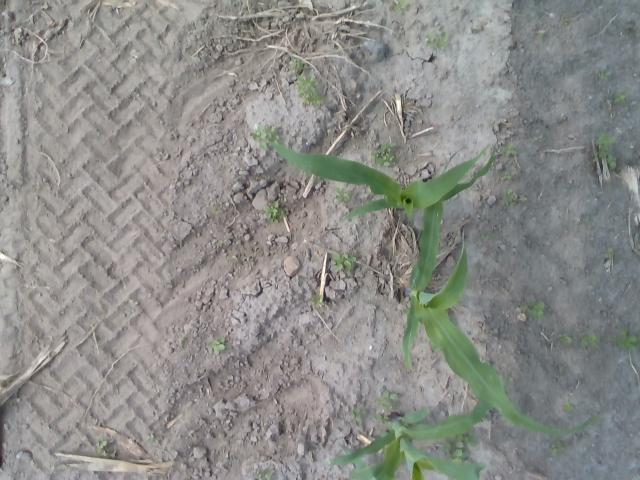Maize: (402, 198, 603, 436), (268, 141, 496, 220), (330, 402, 490, 480)
Weeds: (369, 139, 398, 168), (250, 124, 276, 145), (332, 254, 356, 271), (617, 330, 637, 350), (443, 442, 464, 461), (294, 74, 314, 93), (349, 406, 366, 427), (267, 202, 284, 222), (208, 338, 225, 356), (378, 391, 398, 406), (430, 31, 447, 46), (254, 468, 274, 480), (334, 187, 351, 201), (596, 133, 614, 146), (612, 90, 626, 104), (532, 300, 544, 316), (309, 94, 325, 105), (503, 142, 516, 154), (156, 148, 169, 160), (394, 1, 408, 12), (456, 435, 468, 447), (376, 412, 388, 424), (96, 436, 105, 452), (606, 154, 616, 168), (310, 294, 322, 305), (596, 70, 610, 79), (597, 148, 608, 159), (561, 335, 572, 346), (292, 58, 302, 68), (562, 404, 574, 412), (300, 95, 310, 104), (502, 195, 511, 205), (560, 16, 569, 26), (604, 248, 612, 259), (588, 333, 596, 344), (503, 170, 511, 180), (504, 188, 514, 196), (556, 440, 564, 450), (579, 337, 588, 345), (522, 305, 530, 313), (551, 444, 557, 454), (469, 438, 476, 446), (538, 29, 546, 35), (588, 221, 594, 228), (148, 434, 154, 439), (232, 255, 238, 260), (212, 208, 217, 212), (219, 240, 223, 244)
